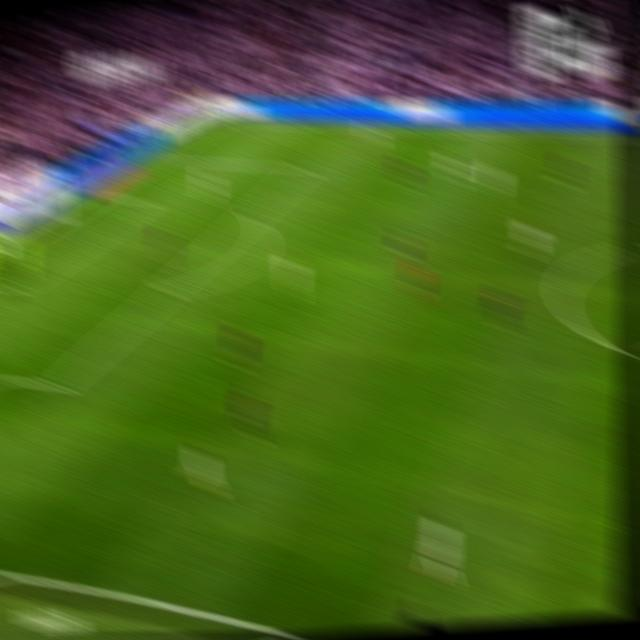bigarea_bottom_inner: (46, 372, 69, 400)
bigarea_top_inner: (294, 159, 314, 178)
bigarea_top_outter: (149, 148, 168, 165)
bottom_arc_area_intersection: (157, 280, 178, 301)
corner: (208, 114, 226, 128)
smallarea_bottom_inner: (8, 277, 28, 299)
smallarea_top_inner: (138, 193, 154, 207)
top_arc_area_intersection: (241, 206, 259, 225)
